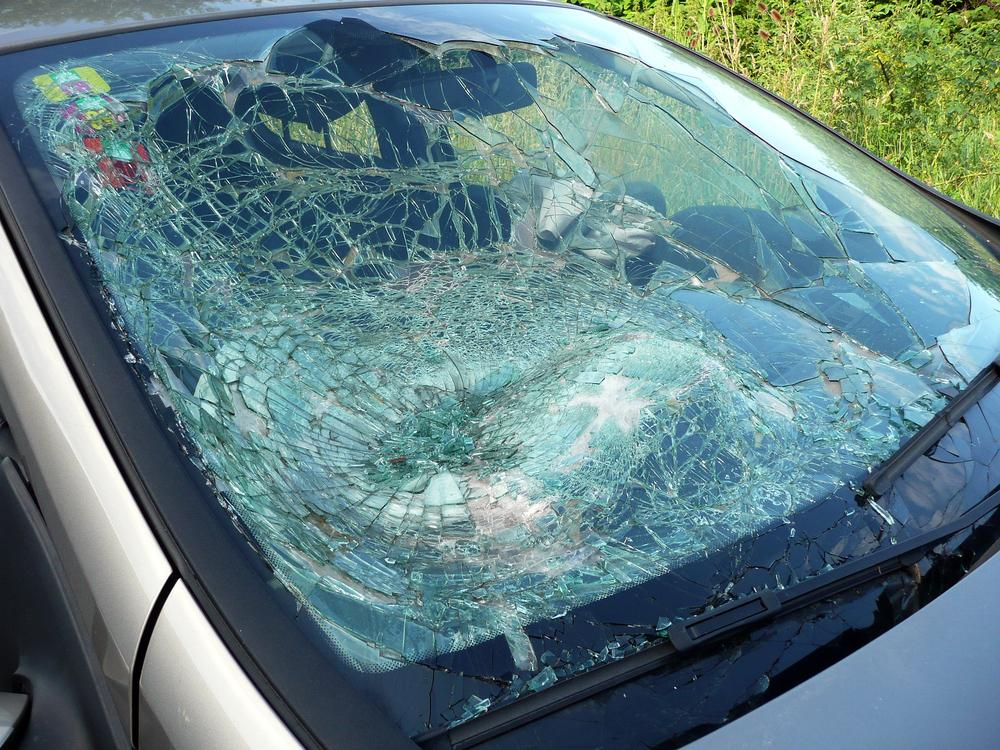glass shatter: (0, 2, 1000, 750)
